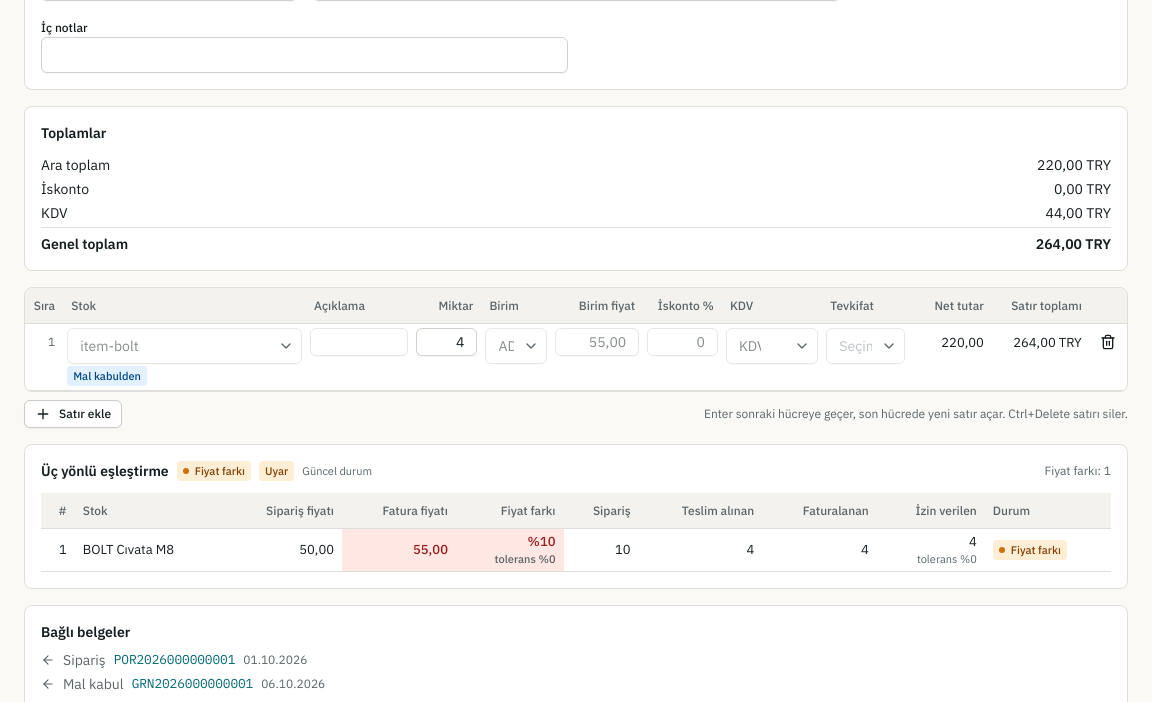
supplier invoice booking › says the invoice left draft when it was booked meanwhile (409 DOCUMENT_LOCKED)
(page scrolled)
Step 1. Click the field named "Miktar, 1. satır" → (446, 342), box [416,328,477,356]
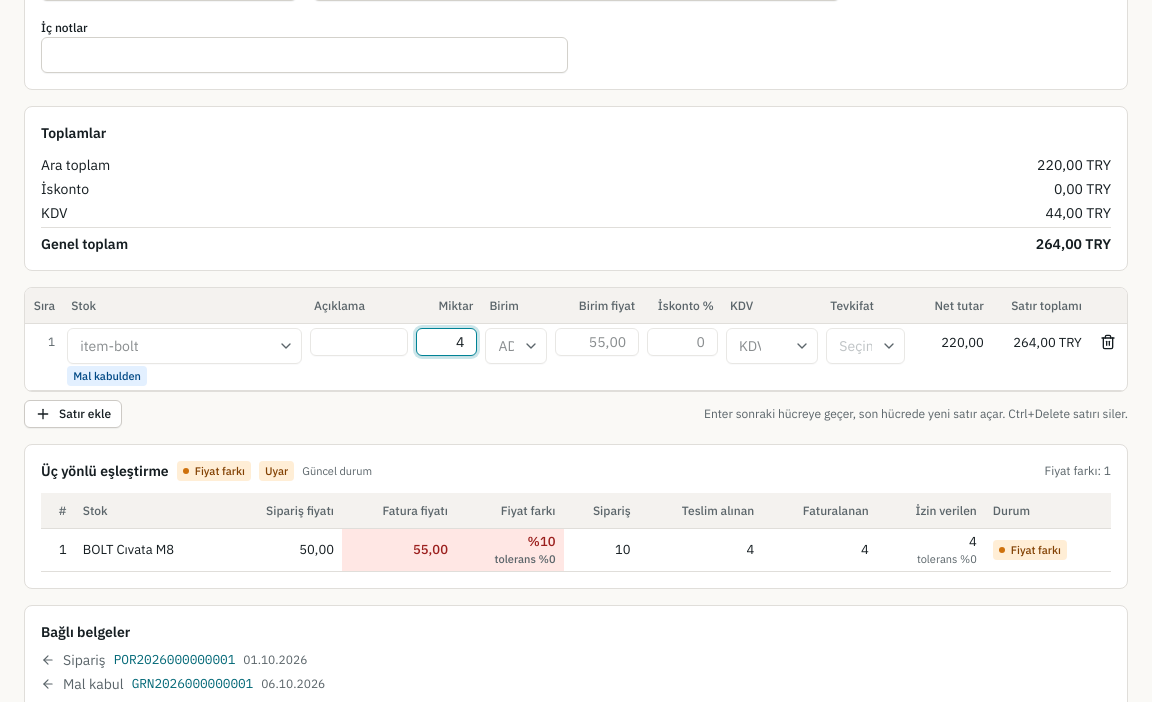
Step 2. Type keys "{Control>}a{/Control}4"
(page scrolled)
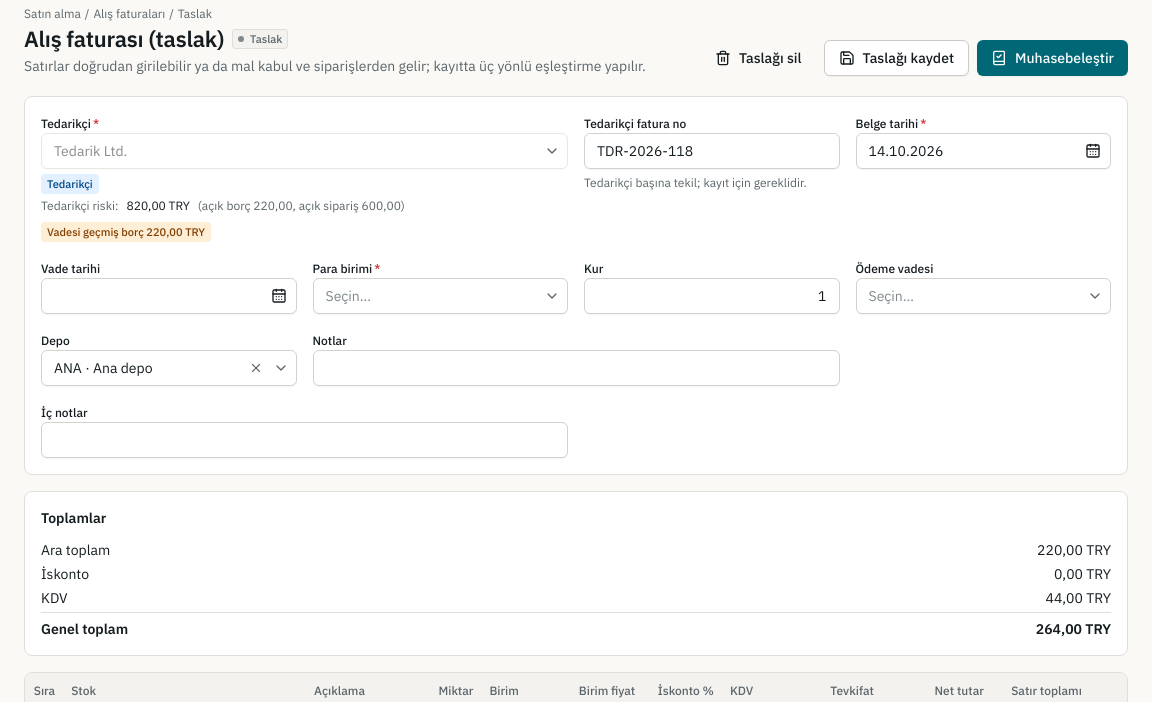
Step 3. Click the button "Taslağı kaydet" → (896, 58), box [824,40,969,76]
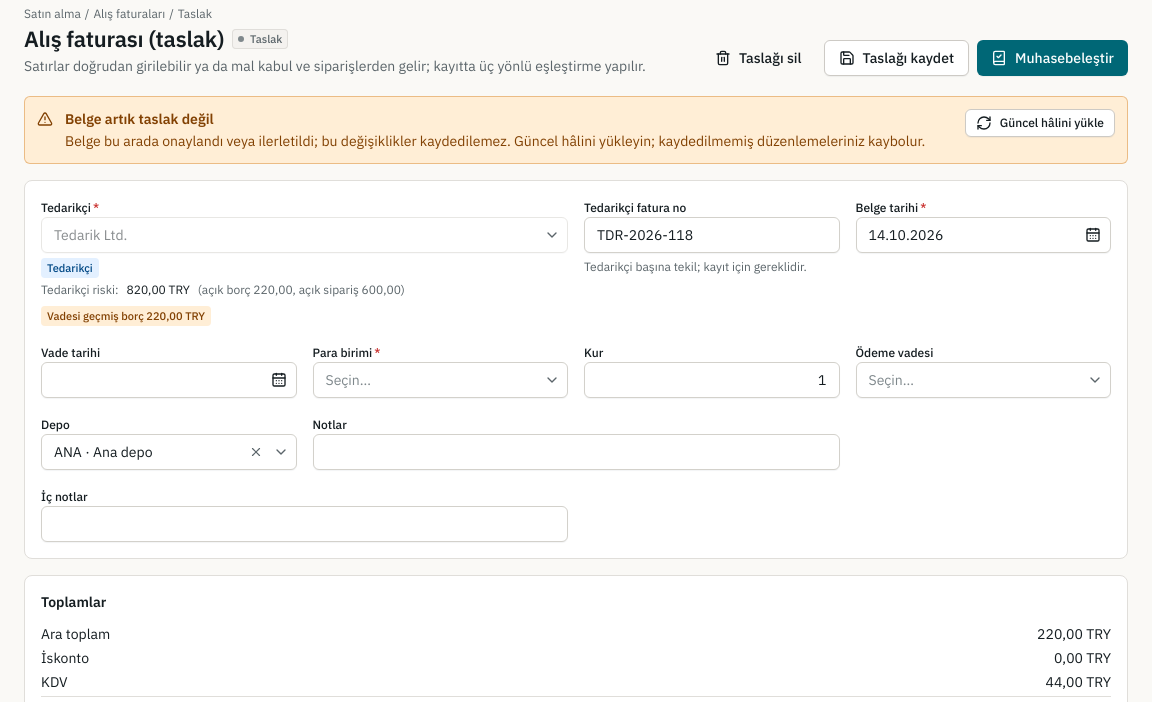
Expected: the text "Belge artık taslak değil" is shown, [65,110,214,128]
